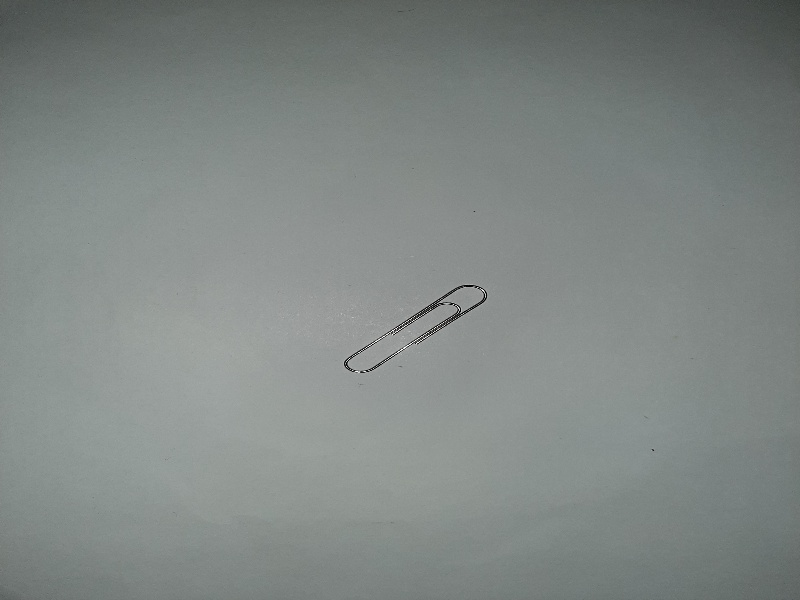Big Jumpclip: (331, 282, 492, 375)
